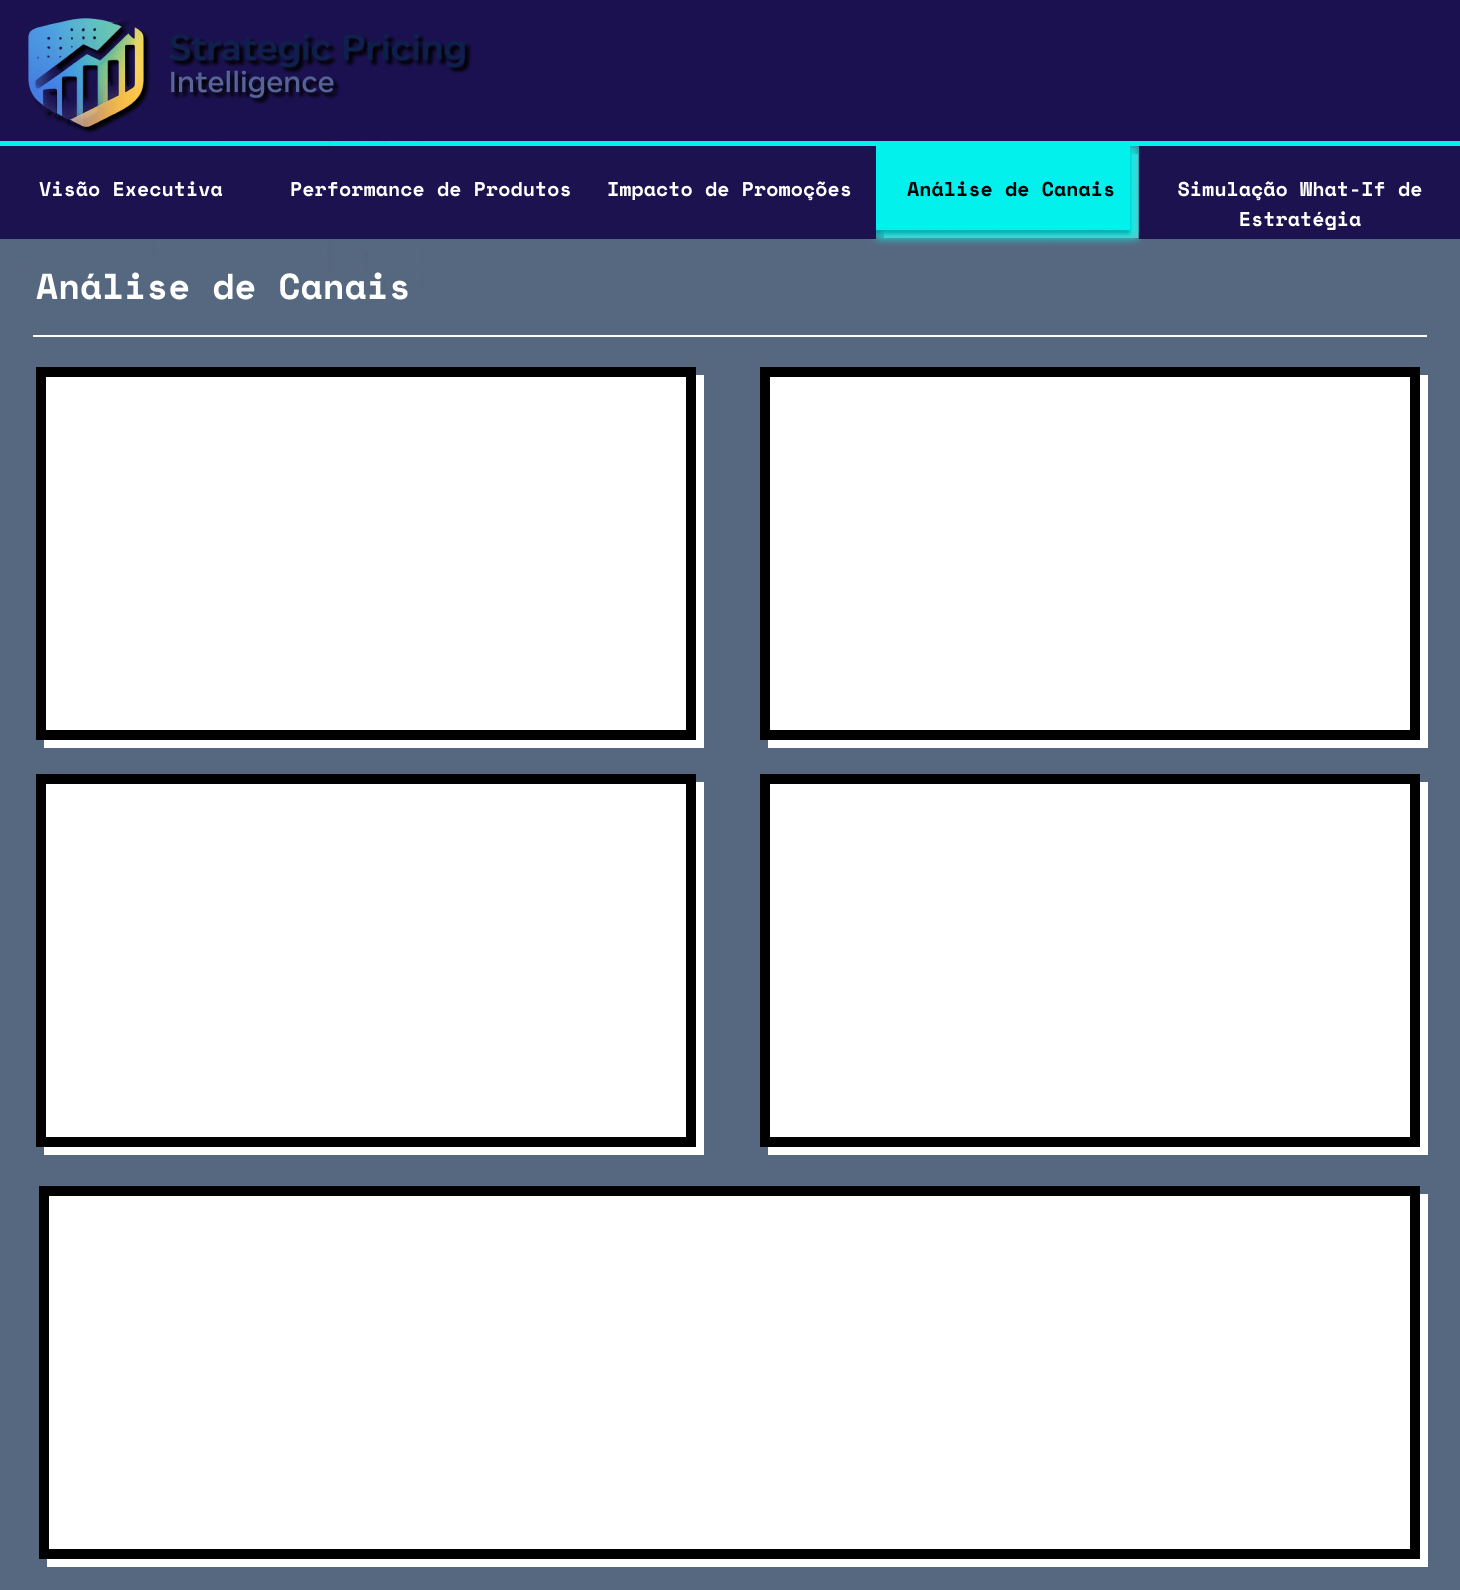

Layout of this report page (visuals, bound fields, positions):
{"tool":"powerbi","page":{"name":"Análise de Canais","canvas":[1460,1590],"ordinal":3},"visuals":[{"type":"columnChart","fields":{"Category":["Dim_Canal.Canal"],"Y":["Fato_Vendas.Receita Total"]},"box":[46,388,642,340],"z":0},{"type":"barChart","fields":{"Category":["Dim_Canal.Canal"],"Y":["Fato_Vendas.Margem %"]},"box":[46,796,642,340],"z":1000},{"type":"columnChart","fields":{"Category":["Dim_Canal.Canal"],"Y":["Fato_Vendas.Volume Total"]},"box":[770,388,642,340],"z":2000},{"type":"barChart","fields":{"Category":["Dim_Canal.Canal"],"Y":["Fato_Vendas.Ticket Médio"]},"box":[770,796,640,340],"z":3000},{"type":"scatterChart","title":"Receita vs Margem por Canal","fields":{"X":["Fato_Vendas.Receita Total"],"Y":["Fato_Vendas.Margem %"],"Size":["Fato_Vendas.Volume Total"],"Series":["Dim_Canal.Canal"]},"box":[46,1192,1366,356],"z":4000}]}

Visuals, with their boxes on the page's 1460x1590 design canvas (x1, y1, x2, y2). These are canvas units, not pixel positions in the 1460x1590 screenshot, which may show the page scaled, cropped or inside an application window:
columnChart - Dim_Canal.Canal x Fato_Vendas.Receita Total: bbox(46, 388, 688, 728)
barChart - Dim_Canal.Canal x Fato_Vendas.Margem %: bbox(46, 796, 688, 1136)
columnChart - Dim_Canal.Canal x Fato_Vendas.Volume Total: bbox(770, 388, 1412, 728)
barChart - Dim_Canal.Canal x Fato_Vendas.Ticket Médio: bbox(770, 796, 1410, 1136)
"Receita vs Margem por Canal" scatterChart: bbox(46, 1192, 1412, 1548)
